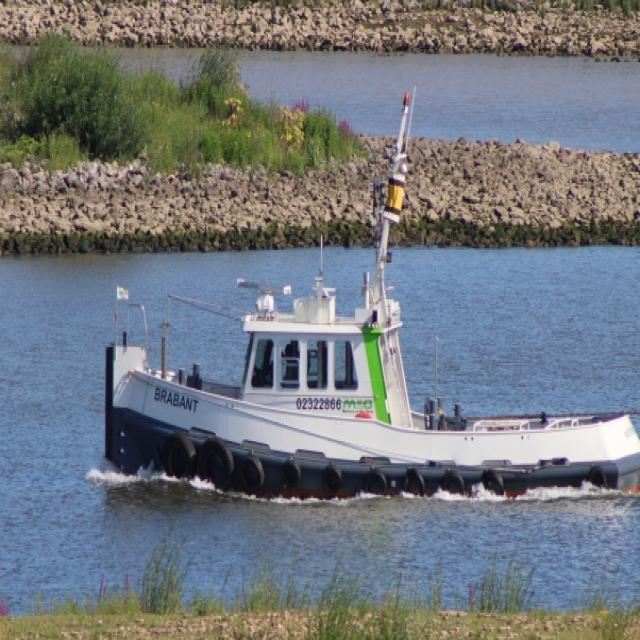tugboat: (99, 84, 640, 525)
